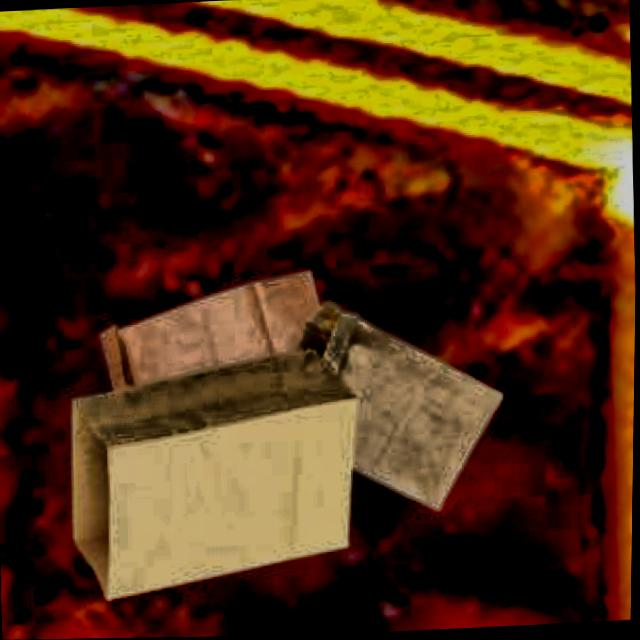Paper-bag: (50, 346, 366, 597), (263, 292, 511, 527), (74, 263, 359, 437)
